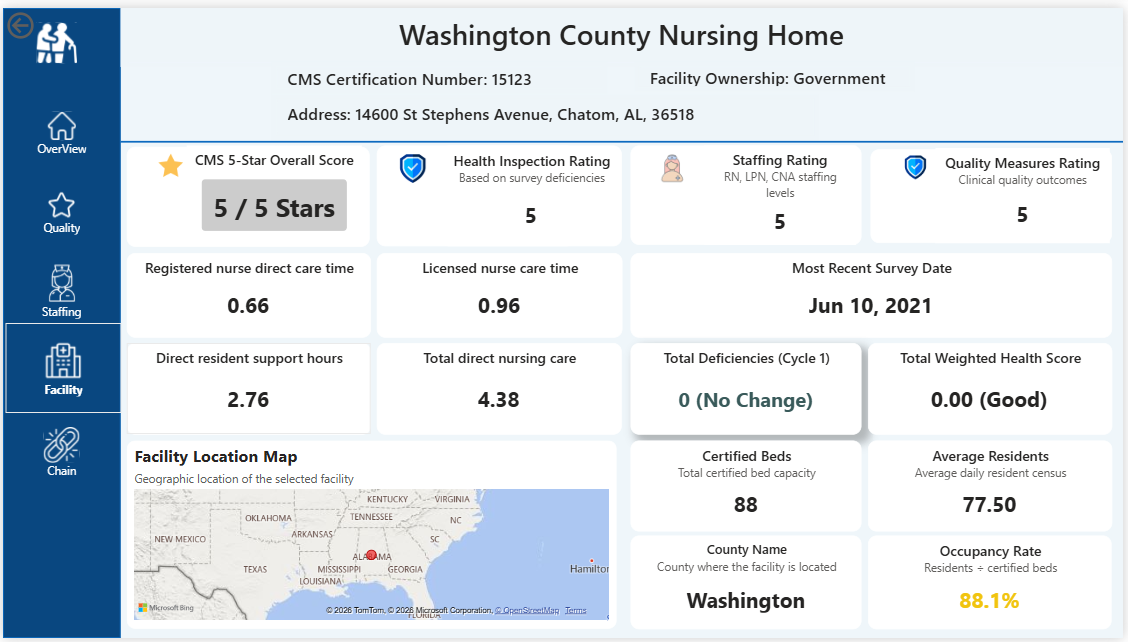

This screenshot's page, from the dashboard's own definition file:
{"tool":"powerbi","page":{"name":"Facility","canvas":[1280,720],"ordinal":3},"visuals":[{"type":"group","id":"g1","title":"Side Bar","box":[0,0,135.7,720],"z":0},{"type":"shape","box":[0,0,134.4,720],"z":0,"group":"g1"},{"type":"shape","box":[716.9,157.2,264.1,113.4],"z":0,"group":"g5"},{"type":"group","id":"g2","title":"Total Facilites","box":[141.5,157.5,277.3,115],"z":0,"group":"g10"},{"type":"shape","box":[427.1,157.5,227.4,115.3],"z":0,"group":"g3"},{"type":"shape","box":[141.5,158.4,277.3,114.1],"z":0,"group":"g2"},{"type":"shape","box":[991,160.5,276.2,107],"z":0,"group":"g6"},{"type":"cardVisual","title":"Staffing Rating ","fields":{"Data":["cms_cleaned.Selected staff rating"]},"box":[800.9,157.2,173.6,113.4],"z":1000,"group":"g5"},{"type":"cardVisual","title":"CMS 5‑Star Overall Score","fields":{"Data":["cms_cleaned.Selected Overall Rating"]},"box":[210.7,157.5,200.2,114.7],"z":1000,"group":"g2"},{"type":"group","id":"g3","title":"Total Facilites","box":[427.1,157.5,275.2,115],"z":1000,"group":"g10"},{"type":"cardVisual","title":"Health Inspection Rating","fields":{"Data":["cms_cleaned.Selected Inspection"]},"box":[499.4,157.5,207.2,115.3],"z":1000,"group":"g3"},{"type":"cardVisual","title":"Quality Measures Rating ","fields":{"Data":["cms_cleaned.Selected QM Rating"]},"box":[1065,159.6,199.2,109.1],"z":1000,"group":"g6"},{"type":"actionButton","title":"Staffing","box":[0,274.3,134.3,98.6],"z":1000,"group":"g1"},{"type":"cardVisual","title":" Registered nurse direct care time","fields":{"Data":["cms_cleaned.select RN hr"]},"box":[141.5,279.9,278.8,96.4],"z":1000,"group":"g7"},{"type":"cardVisual","title":"Licensed nurse care time","fields":{"Data":["cms_cleaned.select LPN hr"]},"box":[426.6,279.9,280.9,96.4],"z":1000,"group":"g8"},{"type":"cardVisual","title":"Direct resident support hours","fields":{"Data":["cms_cleaned.select cna hr"]},"box":[141.5,382.6,278.8,105],"z":1000,"group":"g9"},{"type":"group","id":"g4","title":"Total Facilites","box":[426.6,382.6,279.9,105],"z":1000},{"type":"cardVisual","title":"Total direct nursing care","fields":{"Data":["cms_cleaned.select total nurse hr"]},"box":[426.6,382.6,279.9,105],"z":1000,"group":"g4"},{"type":"group","id":"g5","title":"Total Facilites","box":[716.9,157.2,266.8,115],"z":2000,"group":"g10"},{"type":"image","box":[165.9,166.4,51.7,28.2],"z":2000,"group":"g2"},{"type":"image","box":[740.4,167.5,49.2,31.9],"z":2000,"group":"g5"},{"type":"image","box":[447.3,168,42.3,32.5],"z":2000,"group":"g3"},{"type":"image","box":[1016.5,168.2,51.5,27.1],"z":2000,"group":"g6"},{"type":"cardVisual","title":"Most Recent Survey Date","fields":{"Data":["cms_cleaned.SELECTED Formatted Date"]},"box":[716.9,279.9,550.3,96.4],"z":2000},{"type":"actionButton","title":"Chain","box":[0,462.9,134.3,90],"z":2000,"group":"g1"},{"type":"group","id":"g6","title":"Total Facilites","box":[991,159.6,276.2,112.9],"z":3000,"group":"g10"},{"type":"group","id":"g7","title":"Total Facilites","box":[141.5,279.9,278.8,96.4],"z":3000},{"type":"actionButton","title":"Facility","box":[2.9,360,132.9,102.9],"z":3000,"group":"g1"},{"type":"actionButton","title":"OverView","box":[0,98.6,134.3,90],"z":4000,"group":"g1"},{"type":"group","id":"g8","title":"Total Facilites","box":[426.6,279.9,280.9,96.4],"z":4000},{"type":"actionButton","box":[0,188.6,134.3,90],"z":5000,"group":"g1"},{"type":"group","id":"g9","title":"Total Facilites","box":[141.5,382.6,278.8,105],"z":5000},{"type":"actionButton","box":[0,0,100,40],"z":6000},{"type":"actionButton","box":[34.1,12.9,67.1,54.3],"z":6000,"group":"g1"},{"type":"cardVisual","fields":{"Data":["Min(cms_cleaned.Facility Name)"]},"box":[134.6,0,1145.8,67.3],"z":7000},{"type":"cardVisual","fields":{"Data":["cms_cleaned.Facility CCN"]},"box":[307.1,61.8,383.6,36.7],"z":8000},{"type":"cardVisual","fields":{"Data":["cms_cleaned.Facility Ownership"]},"box":[722,62,320,34],"z":9000},{"type":"cardVisual","fields":{"Data":["cms_cleaned.Facility Address"]},"box":[307.5,98.8,625,52.5],"z":10000},{"type":"shape","box":[133.6,146.3,1146.7,14.3],"z":11000},{"type":"map","title":"Facility Location Map ","fields":{"Category":["cms_cleaned.State"],"Y":["Sum(cms_cleaned.Latitude)"]},"box":[141.5,494.7,559.7,214.9],"z":12000},{"type":"group","id":"g10","title":"Group 1","box":[141.5,157.2,1125.7,115.3],"z":13000},{"type":"cardVisual","title":"Total Deficiencies (Cycle 1)","fields":{"Data":["cms_cleaned.selected def.display"]},"box":[716.9,382.6,264.1,105],"z":14000},{"type":"cardVisual","title":"Total Weighted Health Score","fields":{"Data":["cms_cleaned.selected weighted score"]},"box":[988.4,382.6,278.8,105],"z":15000},{"type":"cardVisual","title":"Certified Beds","fields":{"Data":["cms_cleaned.selected certifies beds"]},"box":[716.9,494.7,264.1,103.8],"z":16000},{"type":"cardVisual","title":"Occupancy Rate","fields":{"Data":["cms_cleaned.selected occupancy"]},"box":[988.6,602.9,278.6,107.1],"z":17000},{"type":"cardVisual","title":"Average Residents","fields":{"Data":["cms_cleaned.selected avg resident"]},"box":[988.4,494.7,278.8,103.8],"z":18000},{"type":"cardVisual","title":"County Name","fields":{"Data":["cms_cleaned.Facility County"]},"box":[717.1,602.9,264.3,107.1],"z":19000}]}

Visuals, with their boxes in screenshot pixels (x1, y1, x2, y2), scaled from the page's 1280x720 canvas onto the 1128x642 screenshot:
"Side Bar" group: (left=0, top=0, right=120, bottom=641)
shape: (left=0, top=0, right=118, bottom=641)
shape: (left=632, top=140, right=865, bottom=241)
"Total Facilites" group: (left=125, top=140, right=369, bottom=243)
shape: (left=376, top=140, right=577, bottom=243)
shape: (left=125, top=141, right=369, bottom=243)
shape: (left=873, top=143, right=1117, bottom=239)
"Staffing Rating " cardVisual: (left=706, top=140, right=859, bottom=241)
"CMS 5‑Star Overall Score" cardVisual: (left=186, top=140, right=362, bottom=243)
"Total Facilites" group: (left=376, top=140, right=619, bottom=243)
"Health Inspection Rating" cardVisual: (left=440, top=140, right=623, bottom=243)
"Quality Measures Rating " cardVisual: (left=939, top=142, right=1114, bottom=240)
"Staffing" actionButton: (left=0, top=245, right=118, bottom=333)
" Registered nurse direct care time" cardVisual: (left=125, top=250, right=370, bottom=336)
"Licensed nurse care time" cardVisual: (left=376, top=250, right=623, bottom=336)
"Direct resident support hours" cardVisual: (left=125, top=341, right=370, bottom=435)
"Total Facilites" group: (left=376, top=341, right=623, bottom=435)
"Total direct nursing care" cardVisual: (left=376, top=341, right=623, bottom=435)
"Total Facilites" group: (left=632, top=140, right=867, bottom=243)
image: (left=146, top=148, right=192, bottom=174)
image: (left=652, top=149, right=696, bottom=178)
image: (left=394, top=150, right=431, bottom=179)
image: (left=896, top=150, right=941, bottom=174)
"Most Recent Survey Date" cardVisual: (left=632, top=250, right=1117, bottom=336)
"Chain" actionButton: (left=0, top=413, right=118, bottom=493)
"Total Facilites" group: (left=873, top=142, right=1117, bottom=243)
"Total Facilites" group: (left=125, top=250, right=370, bottom=336)
"Facility" actionButton: (left=3, top=321, right=120, bottom=413)
"OverView" actionButton: (left=0, top=88, right=118, bottom=168)
"Total Facilites" group: (left=376, top=250, right=623, bottom=336)
actionButton: (left=0, top=168, right=118, bottom=248)
"Total Facilites" group: (left=125, top=341, right=370, bottom=435)
actionButton: (left=0, top=0, right=88, bottom=36)
actionButton: (left=30, top=12, right=89, bottom=60)
cardVisual - Min(cms_cleaned.Facility Name): (left=119, top=0, right=1127, bottom=60)
cardVisual - cms_cleaned.Facility CCN: (left=271, top=55, right=609, bottom=88)
cardVisual - cms_cleaned.Facility Ownership: (left=636, top=55, right=918, bottom=86)
cardVisual - cms_cleaned.Facility Address: (left=271, top=88, right=822, bottom=135)
shape: (left=118, top=130, right=1127, bottom=143)
"Facility Location Map " map: (left=125, top=441, right=618, bottom=633)
"Group 1" group: (left=125, top=140, right=1117, bottom=243)
"Total Deficiencies (Cycle 1)" cardVisual: (left=632, top=341, right=865, bottom=435)
"Total Weighted Health Score" cardVisual: (left=871, top=341, right=1117, bottom=435)
"Certified Beds" cardVisual: (left=632, top=441, right=865, bottom=534)
"Occupancy Rate" cardVisual: (left=871, top=538, right=1117, bottom=633)
"Average Residents" cardVisual: (left=871, top=441, right=1117, bottom=534)
"County Name" cardVisual: (left=632, top=538, right=865, bottom=633)
